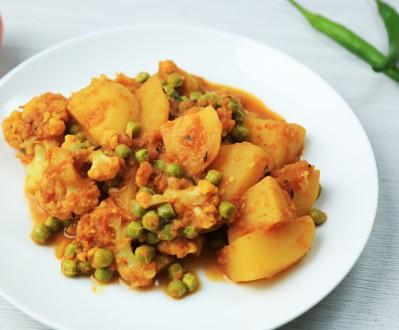AlooGobi: (3, 59, 327, 299)
